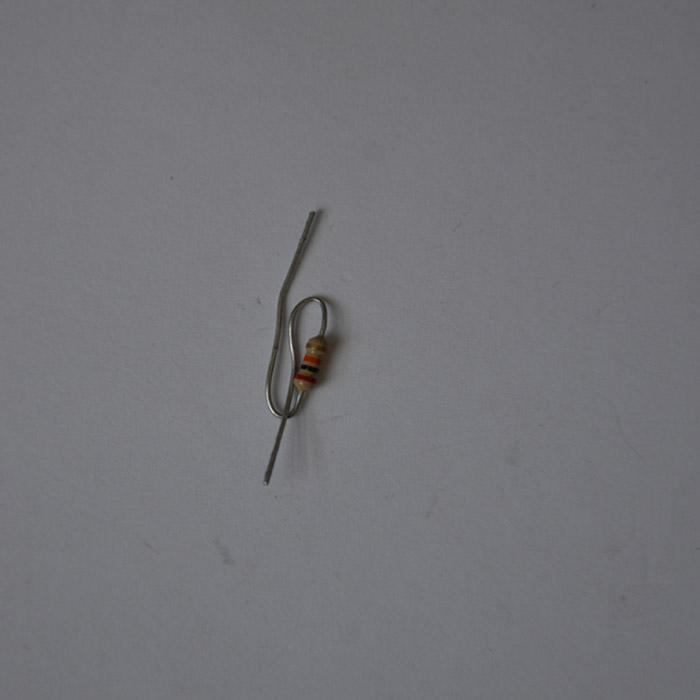resistor: (293, 335, 327, 394)
